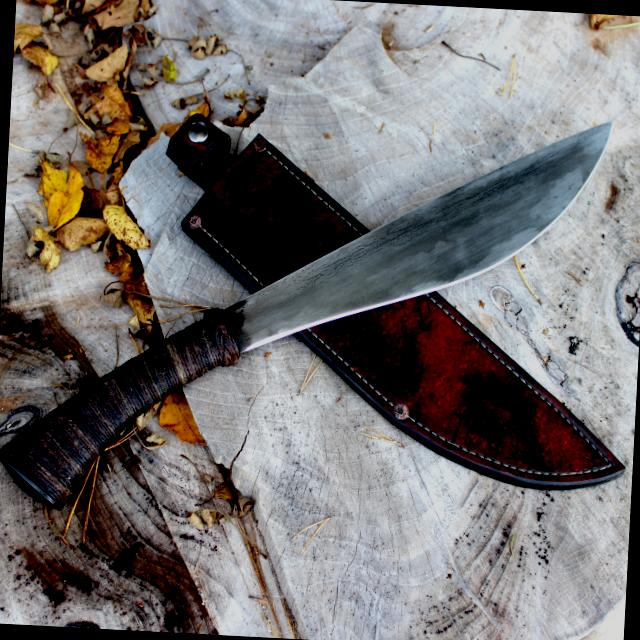short sword: (0, 86, 625, 558)
